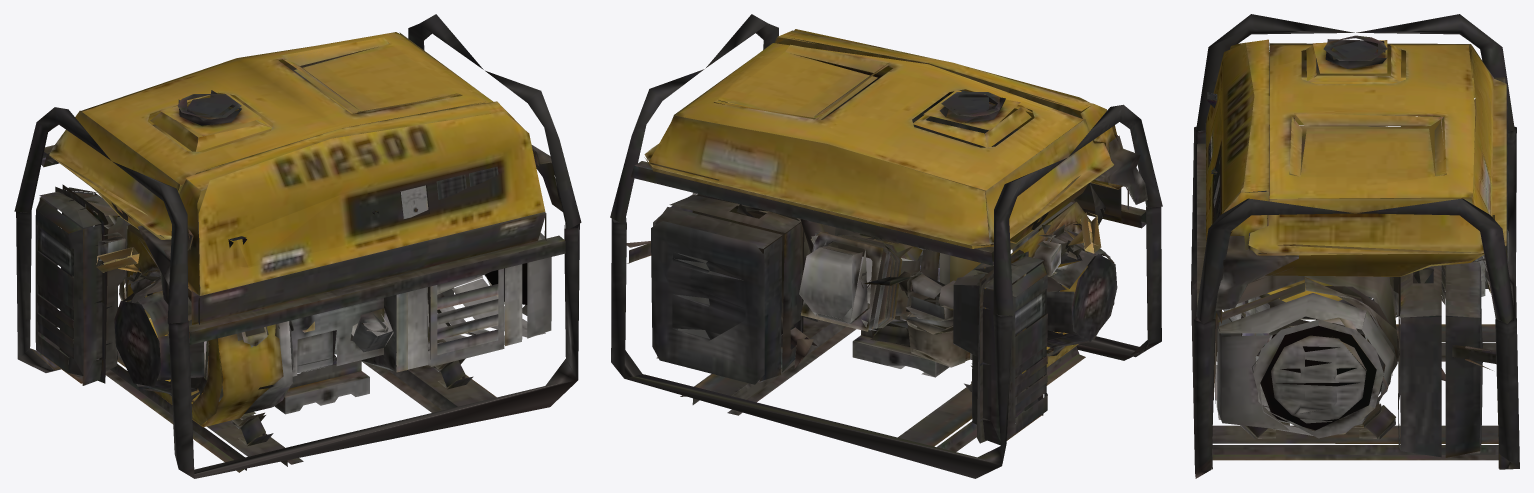
Rendered from generator.glb.
The picture shows the model from 3 angles, left to right: view 1: azimuth 30°, elevation 25°; view 2: azimuth 150°, elevation 25°; view 3: azimuth 270°, elevation 25°; orthographic projection. The views are drawn at different scales.
Visible parts, largest first — view 1: portable_generator; view 2: portable_generator; view 3: portable_generator.
Part boxes in pixels (bbox=[...]): portable_generator: bbox=[14, 14, 581, 478]; portable_generator: bbox=[610, 14, 1162, 478]; portable_generator: bbox=[1191, 14, 1519, 478].
Bounding box in the file's own units: 0.8217 × 0.5767 × 0.5636.
Materials: 2 (2 with a texture image).
